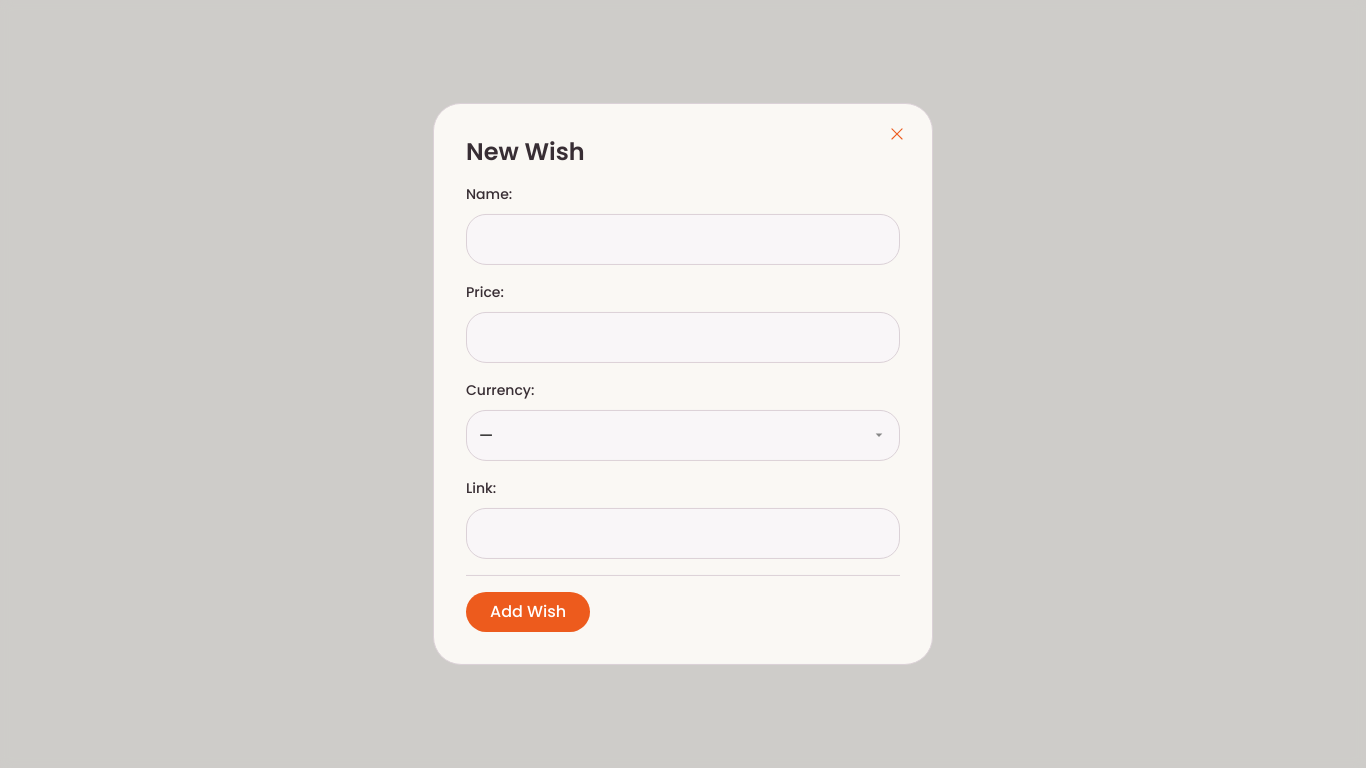
Test case: ItemModal › add mode › can't submit empty form
Click the button with test id "add-item-modal-submit-button": x=528, y=612 top-left (466, 592), bottom-right (590, 632)
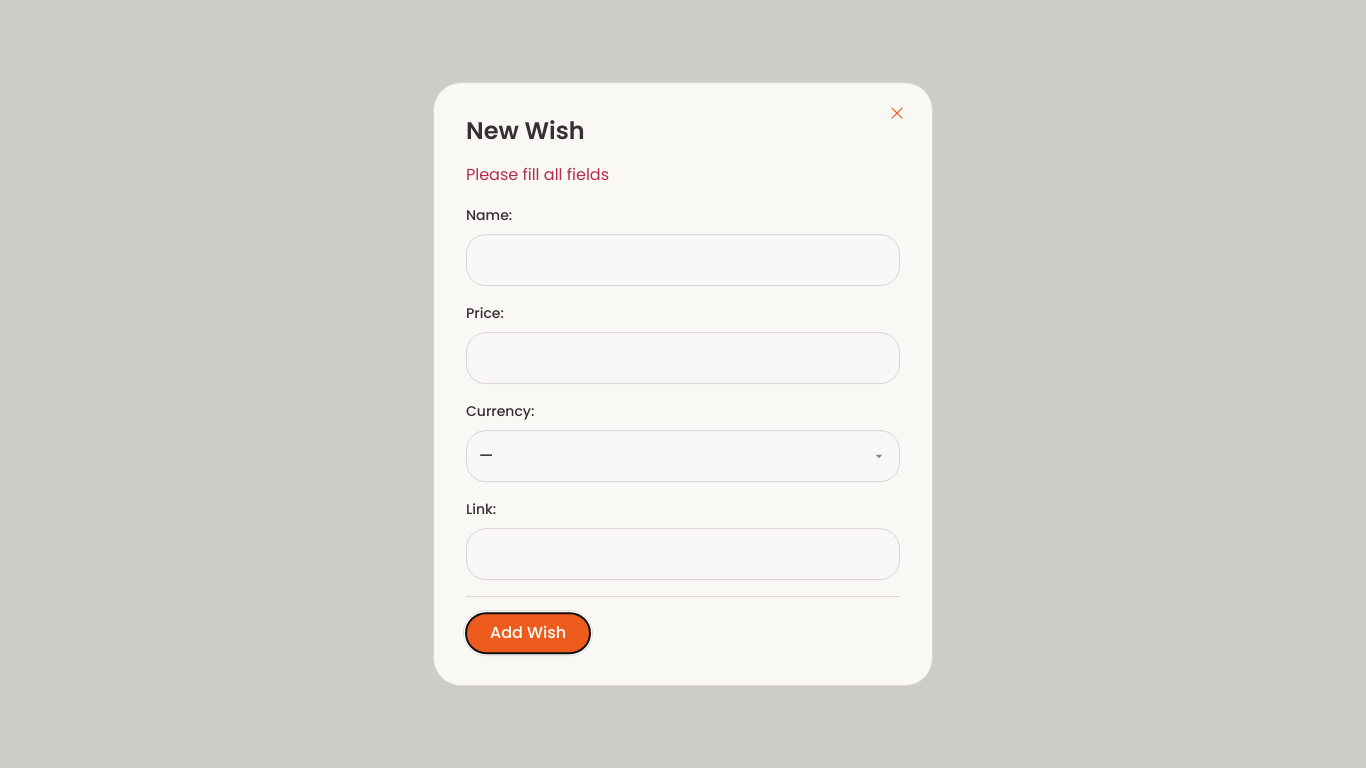
Result: the message with test id "error-message" reads "Please fill all fields" at top-left (466, 163), bottom-right (609, 186)
